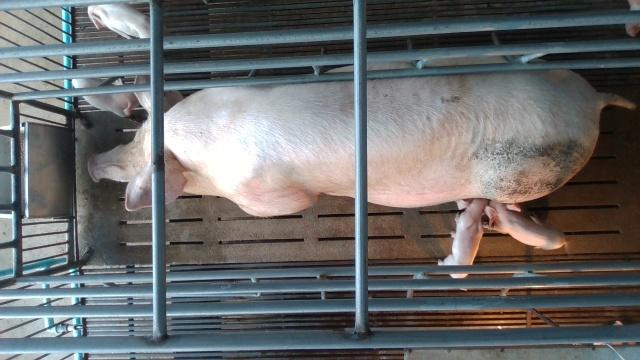piglet: (484, 201, 568, 252), (438, 198, 488, 278), (72, 78, 140, 116), (88, 4, 150, 39)
sow-stand: (87, 75, 639, 217)
